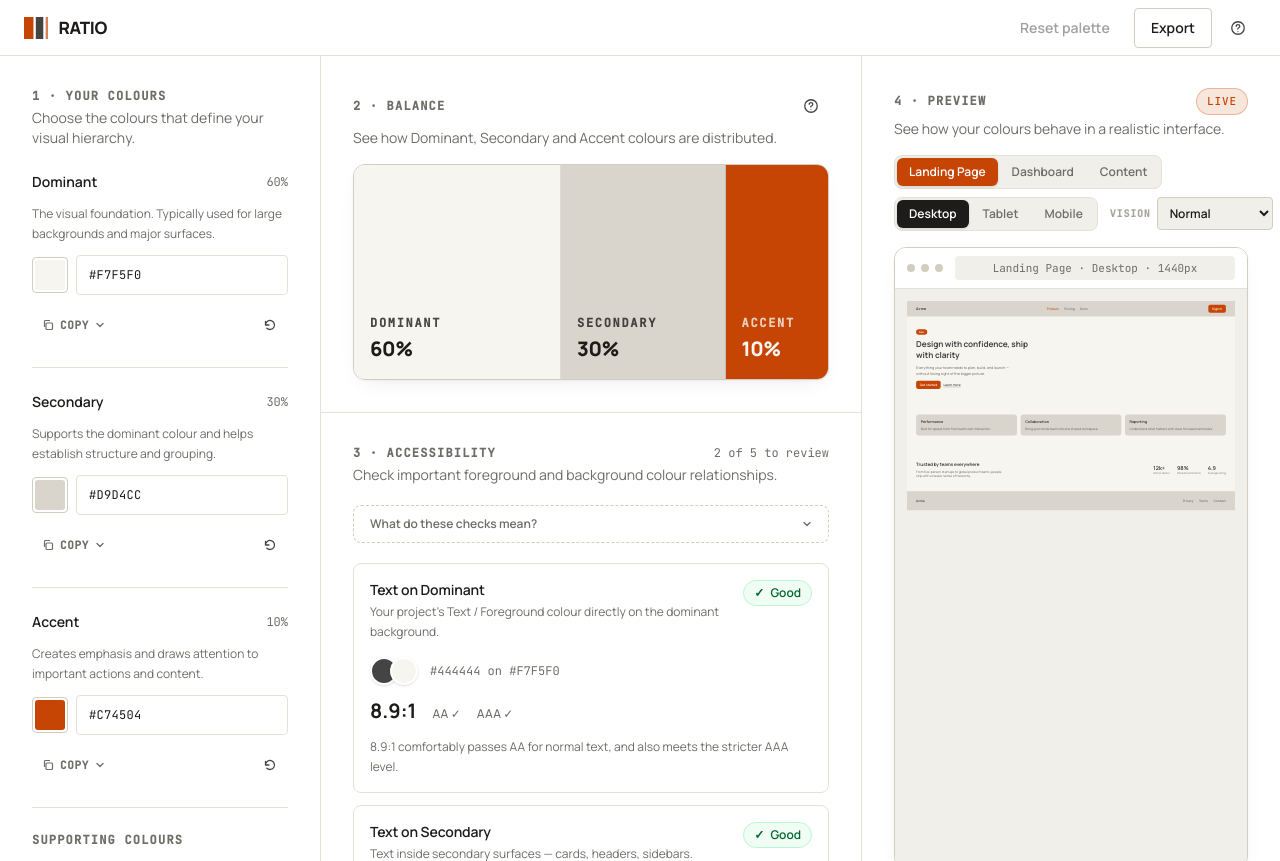
WorkspaceShell › rejects an invalid hex value with an inline error and leaves the visual unchanged
Replace the text in the 1st field named "Dominant hex value" with "not-a-colour" at (182, 275), box [76,255,288,295]
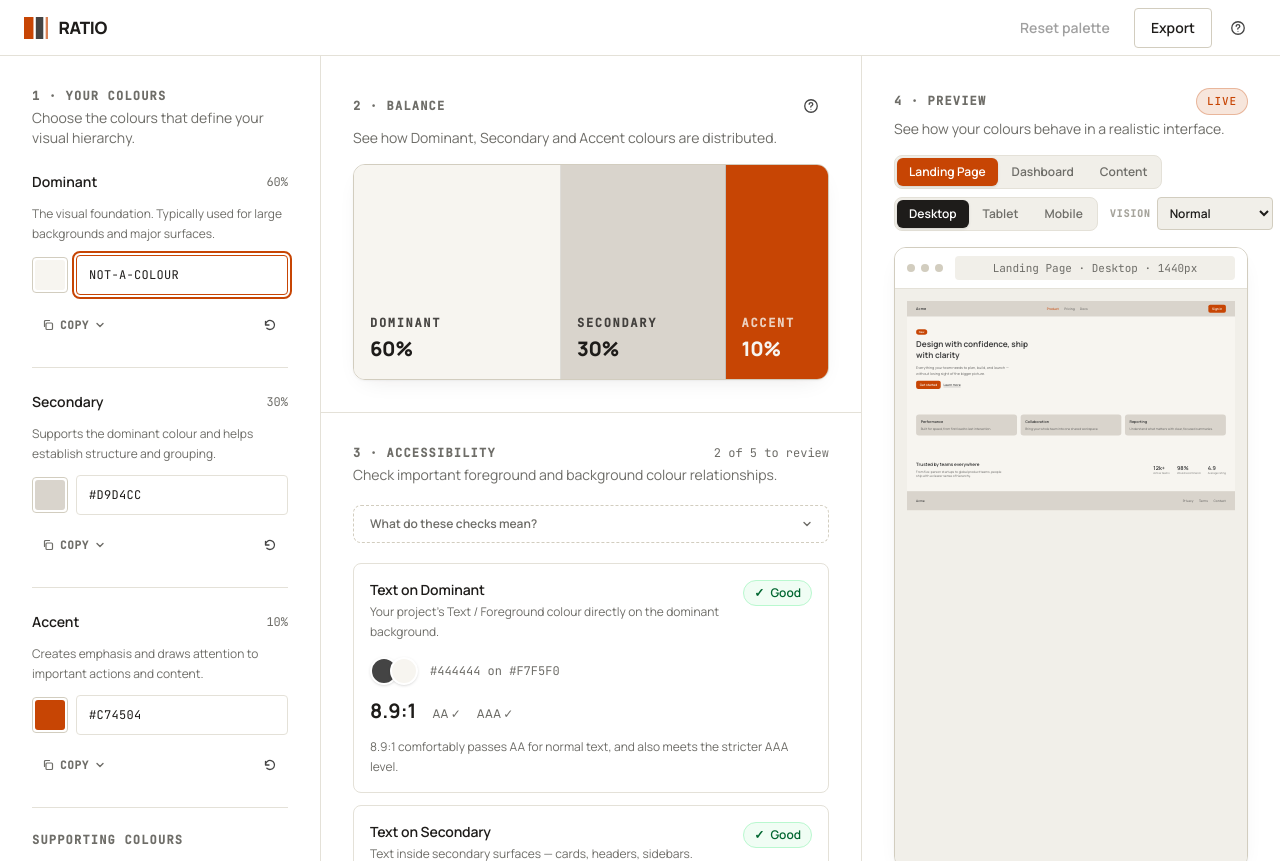
Press Tab
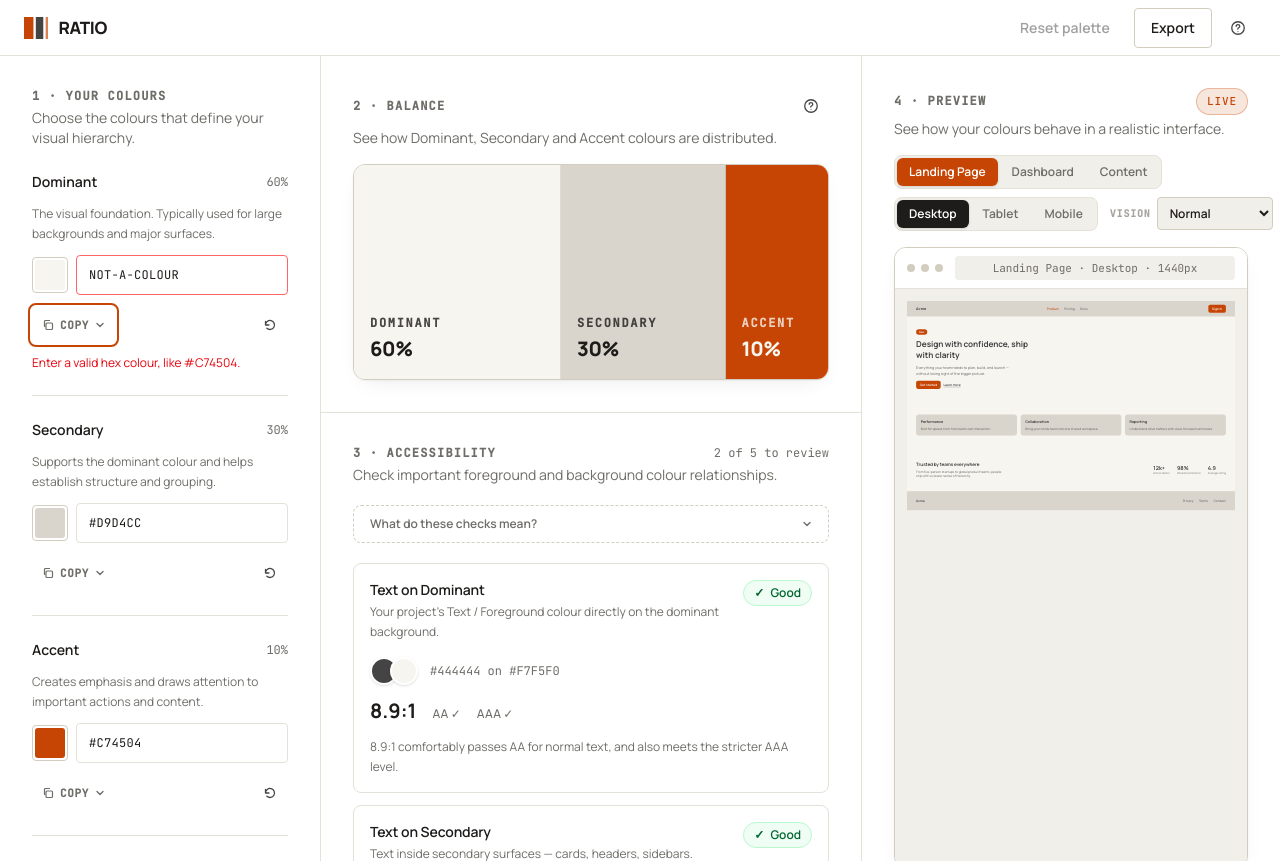
Expected: the picture named "60% Dominant, #F7F5F0" is shown, [353,164,829,380]
Expected: the message "Enter a valid hex colour, like #C74504." is shown, [32,354,240,371]
